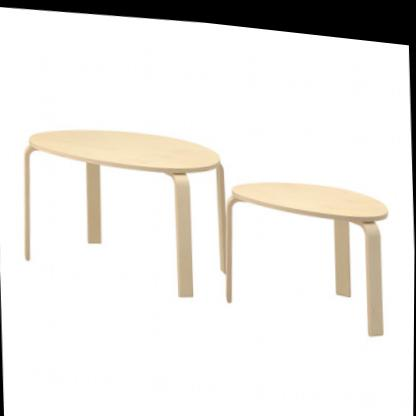Table: (16, 111, 234, 306), (222, 164, 399, 337)
